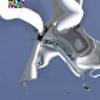faulty: (32, 8, 89, 75)
